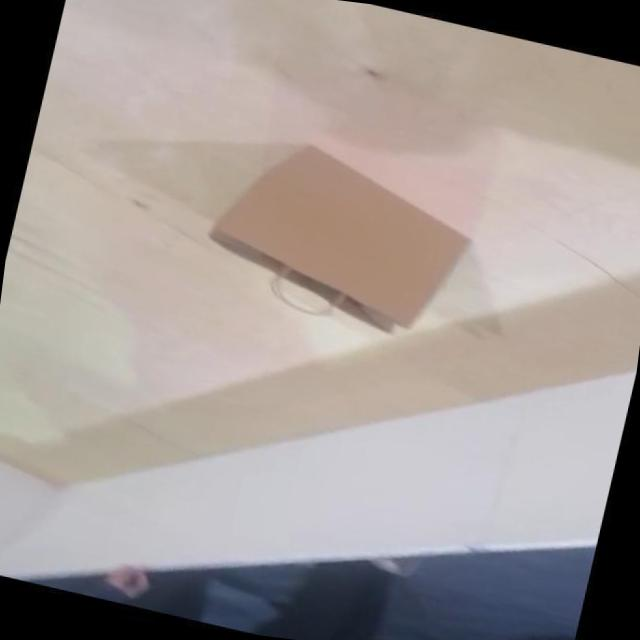Kardus: (0, 0, 640, 640), (198, 130, 484, 340)
